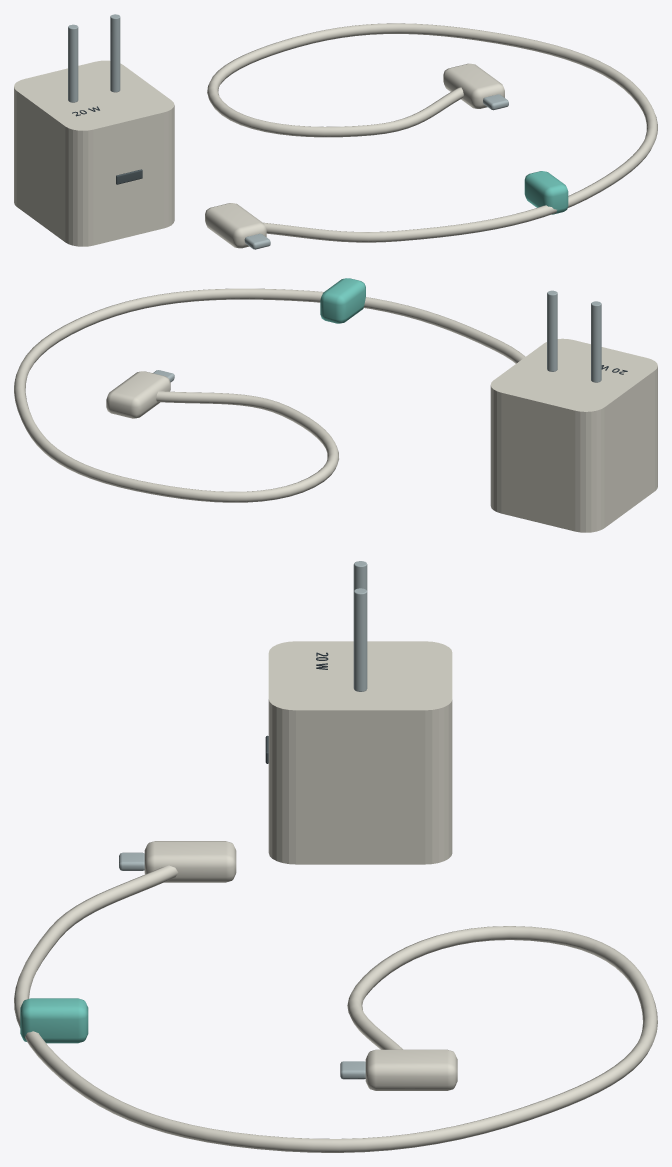
File: usb_c_charger.glb
The picture shows the model from 3 angles, top to bottom: view 1: azimuth 30°, elevation 25°; view 2: azimuth 150°, elevation 25°; view 3: azimuth 270°, elevation 25°; orthographic projection. The views are drawn at different scales.
Visible parts, largest first — view 1: Charger_body, USB_C_cable, USB_C_connector_housing, USB_C_connector_housing.001, Cable_tie, EU_mains_pin.001, EU_mains_pin; view 2: Charger_body, USB_C_cable, USB_C_connector_housing.001, Cable_tie, EU_mains_pin, EU_mains_pin.001; view 3: Charger_body, USB_C_cable, USB_C_connector_housing.001, USB_C_connector_housing, Cable_tie, EU_mains_pin.001.
Boxes of the visible parts, x1,y1,x2,y2 form: Charger_body: (14,60,174,246); USB_C_cable: (207,23,657,242); USB_C_connector_housing: (205,203,266,248); USB_C_connector_housing.001: (443,63,504,108); Cable_tie: (524,171,568,214); EU_mains_pin.001: (110,14,120,92); EU_mains_pin: (68,24,78,102); Charger_body: (490,338,657,532); USB_C_cable: (14,288,525,502); USB_C_connector_housing.001: (106,371,170,418); Cable_tie: (320,278,365,323); EU_mains_pin: (591,301,601,382); EU_mains_pin.001: (547,290,557,371); Charger_body: (268,641,452,864); USB_C_cable: (14,865,657,1152); USB_C_connector_housing.001: (365,1049,457,1090); USB_C_connector_housing: (144,841,236,882); Cable_tie: (20,998,88,1043); EU_mains_pin.001: (353,588,367,691).
Size of the model in its own units: 0.2588 by 0.082 by 0.1893.
